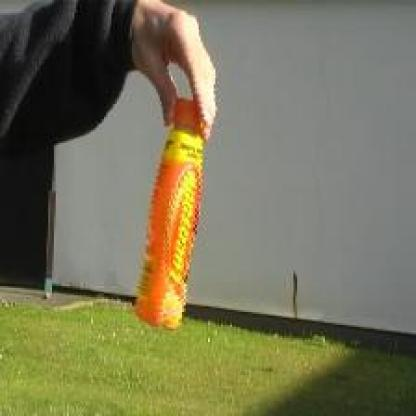other: (131, 84, 201, 336)
